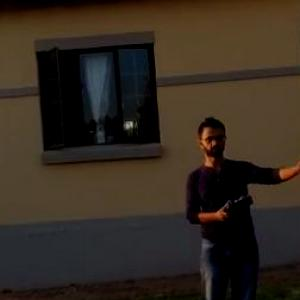follow: (177, 108, 300, 299)
